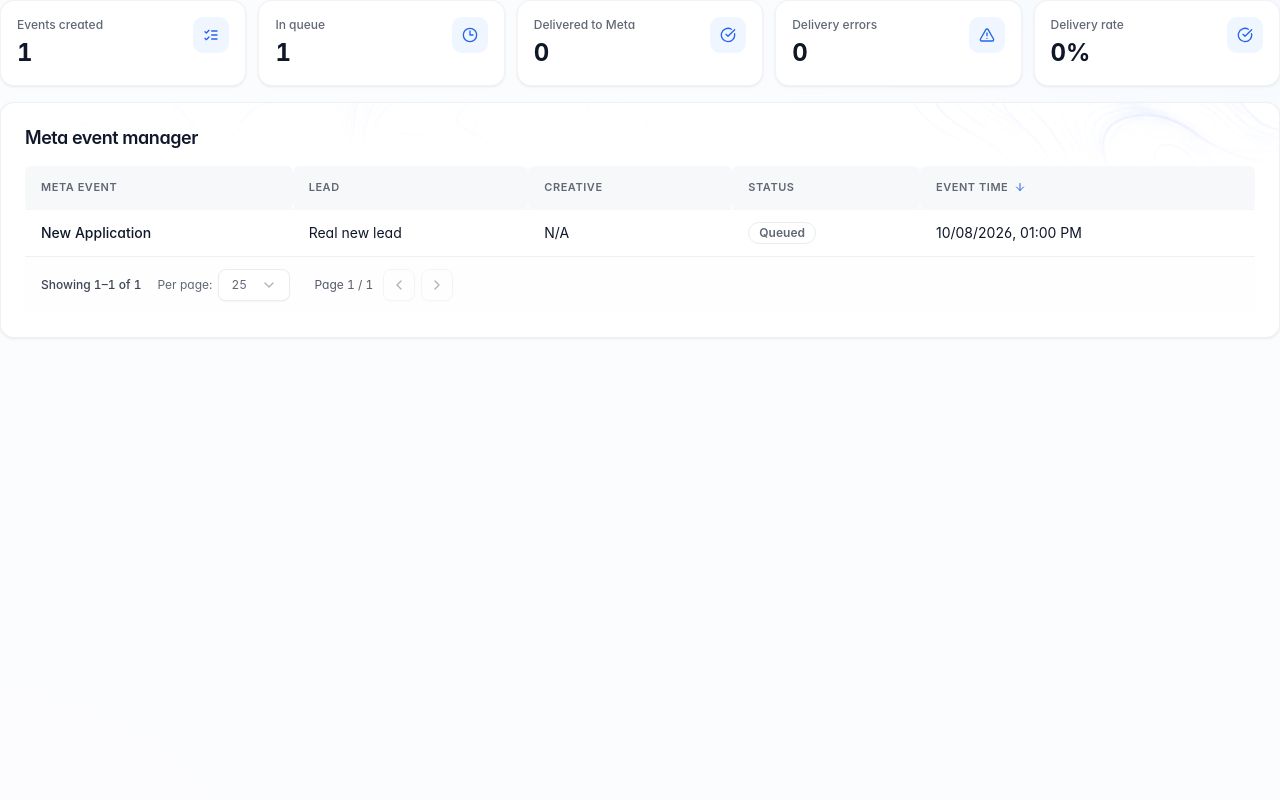
Test case: Meta creation events › retries the pending creation event through the existing API and closes the dialog
Click the text "Real new lead" at point(355, 232), box [293, 210, 528, 256]
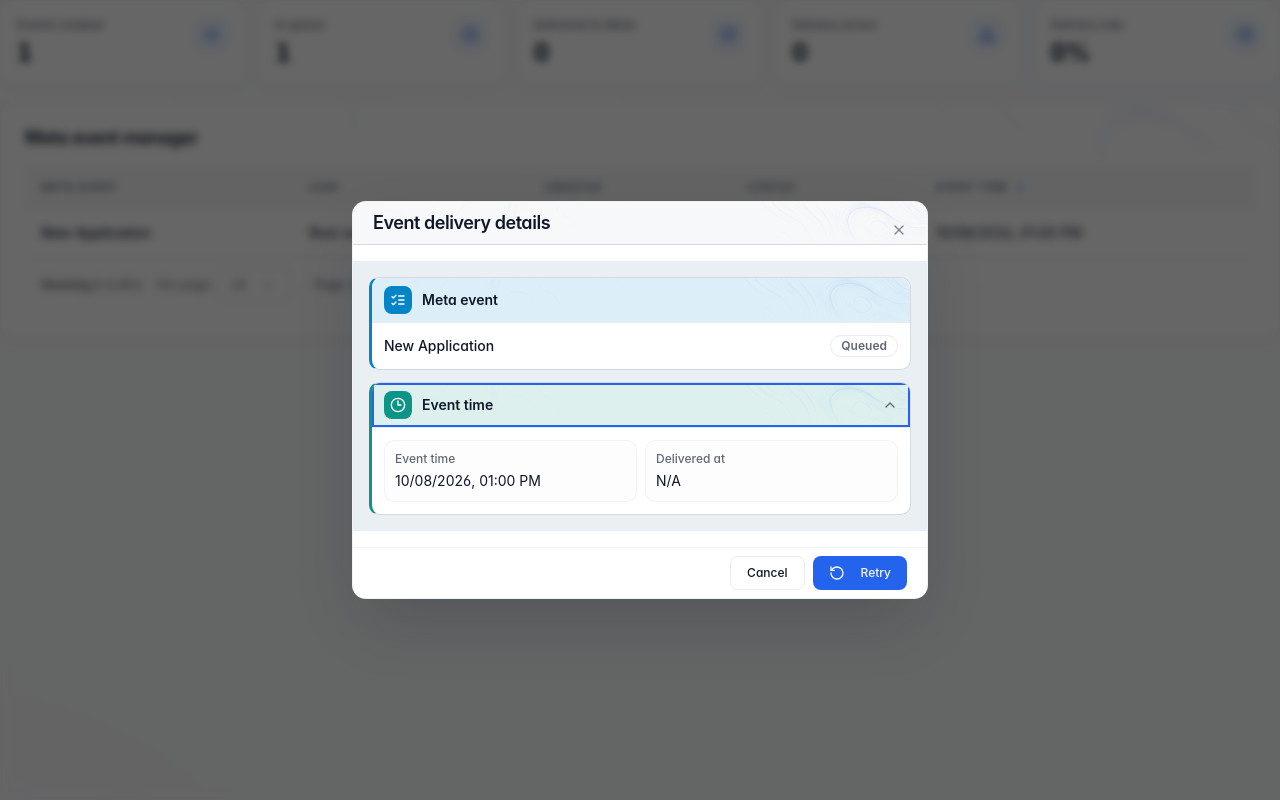
Click the button "Retry" at point(860, 573), box [812, 556, 907, 590]
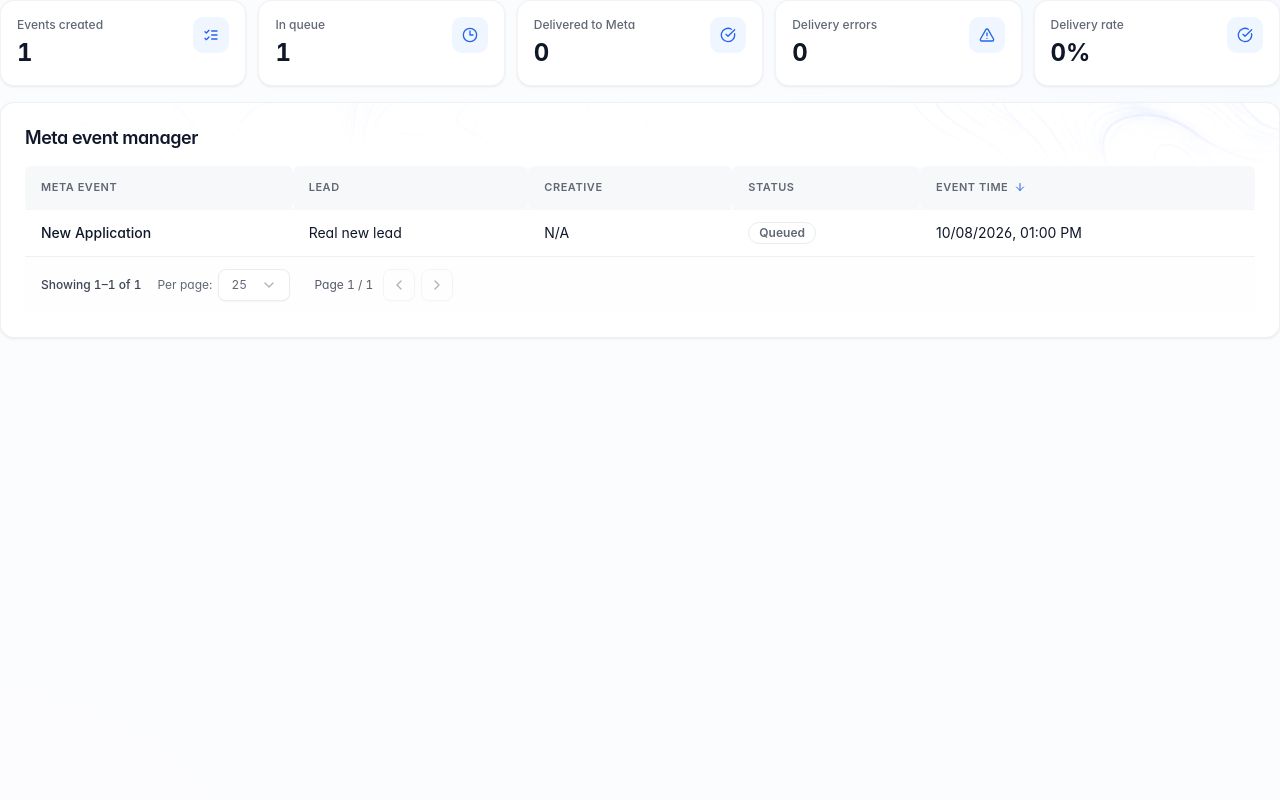
Result: the dialog is gone
